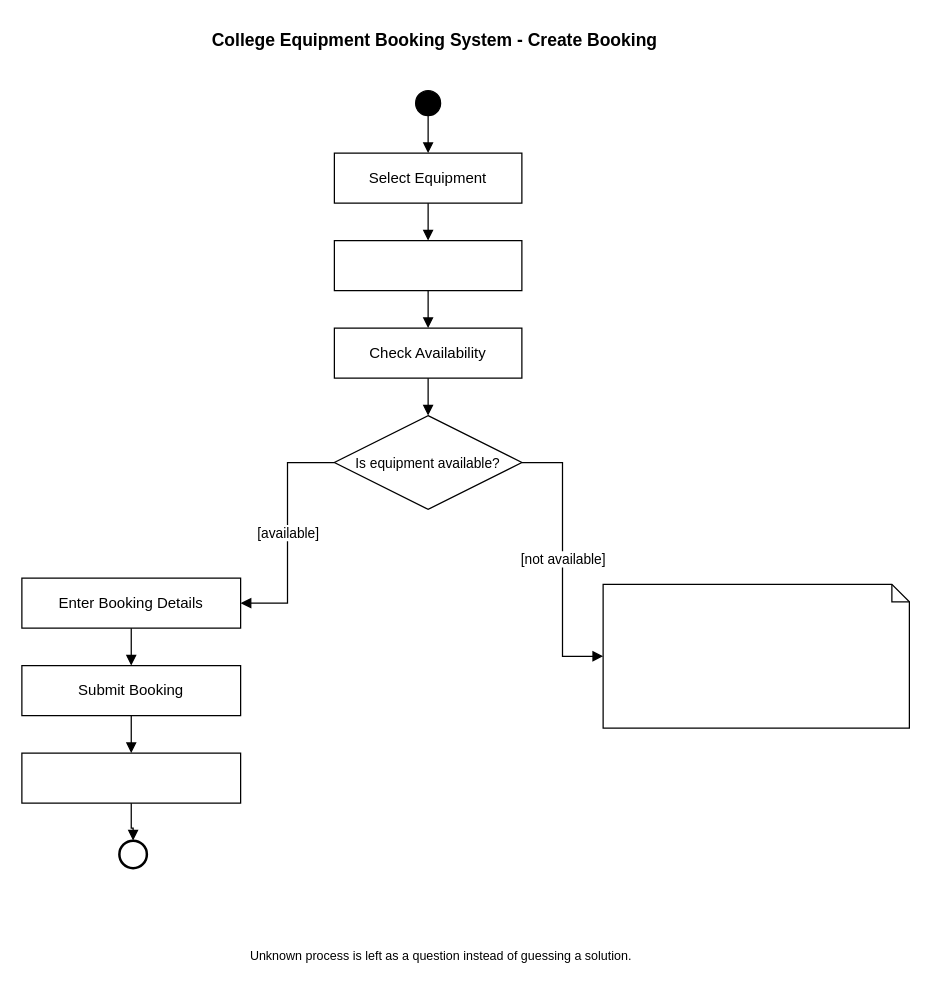
Image size: 931x993. Some labels were removed from this diagram. The centre of each missing label's shape, as x and y in pixels:
Booking Recorded: point (131, 777)
Select Date: point (427, 265)
UNKNOWN<br><br>What should happen when the requested equipment is unavailable?: point (755, 655)
